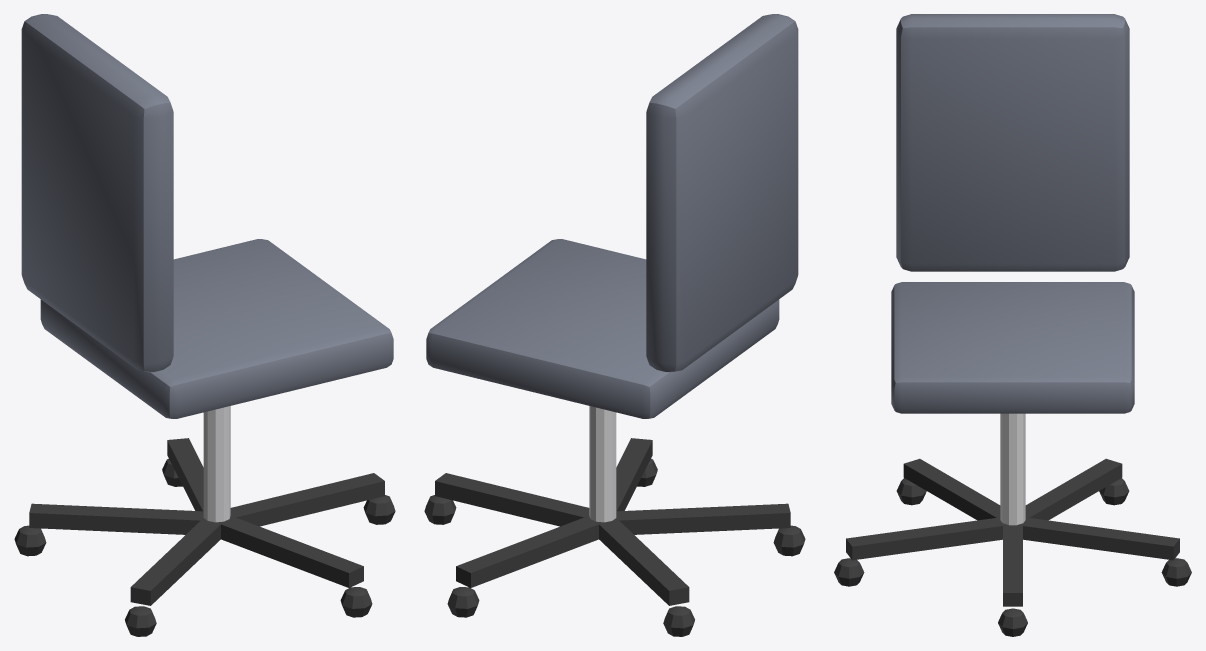
File: SM_OfficeChair.fbx
3 renders of one model, left to right at view 1: azimuth 30°, elevation 25°; view 2: azimuth 150°, elevation 25°; view 3: azimuth 270°, elevation 25°, orthographic. The views are drawn at different scales.
Parts seen in each view (by area): view 1: SM_OfficeChair; view 2: SM_OfficeChair; view 3: SM_OfficeChair.
Boxes of the visible parts, x1,y1,x2,y2 form: SM_OfficeChair: (14, 14, 395, 636); SM_OfficeChair: (424, 14, 805, 636); SM_OfficeChair: (834, 14, 1191, 636).
Bounding box in the file's own units: 67.51 × 108 × 70.67.
